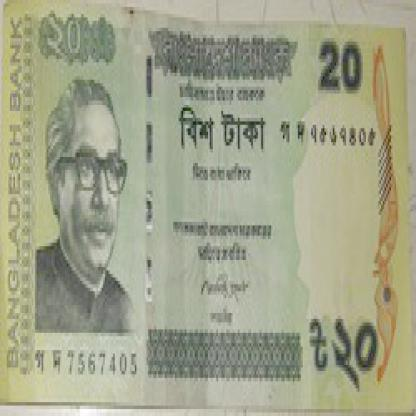Twenty: (304, 302, 388, 392), (173, 100, 271, 163), (306, 24, 371, 104), (42, 14, 120, 66)
